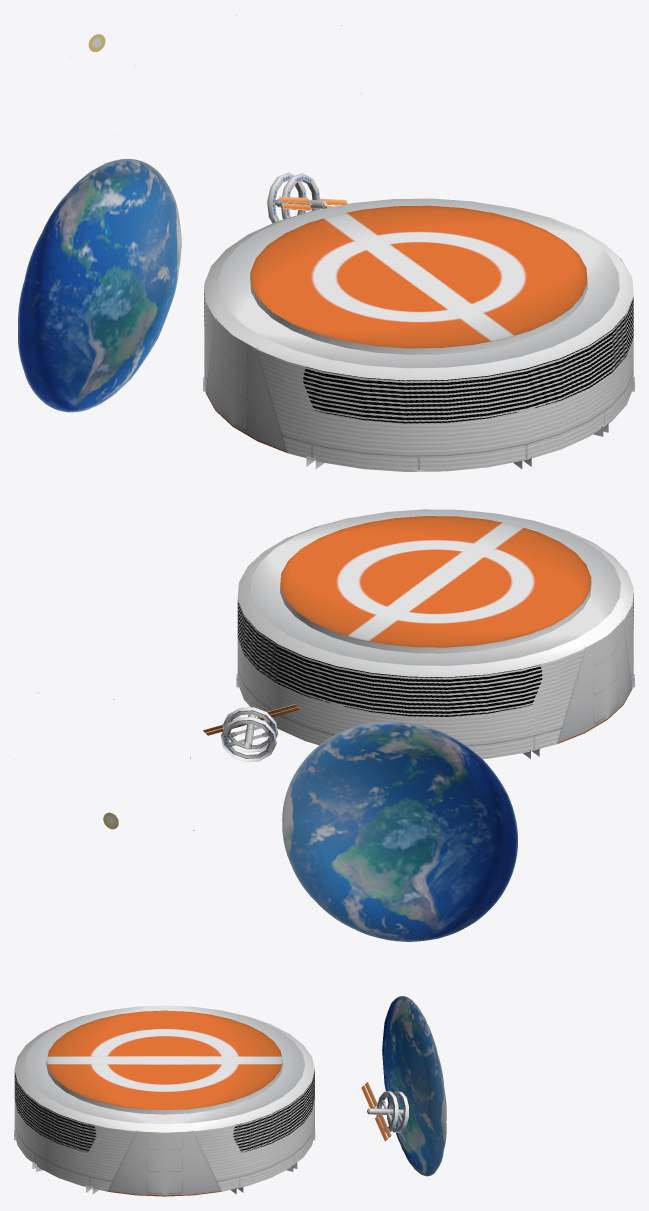
File: space_station_stage.fbx
3 renders of one model, top to bottom at view 1: azimuth 30°, elevation 25°; view 2: azimuth 150°, elevation 25°; view 3: azimuth 270°, elevation 25°, orthographic. The views are drawn at different scales.
Visible parts, largest first — view 1: space_station_roof, space_station_stage, earth, iss, centrifuse_2; view 2: space_station_roof, earth, space_station_stage, centrifuse_2, centifuse_1, iss; view 3: space_station_roof, space_station_stage, earth, iss, centifuse_1, centrifuse_2.
Part boxes in pixels (box(x1,y1,x2,y2)): space_station_roof: box(204, 198, 633, 380); space_station_stage: box(203, 287, 634, 471); earth: box(18, 158, 181, 412); iss: box(276, 196, 347, 210); centrifuse_2: box(267, 172, 306, 223); space_station_roof: box(237, 509, 633, 677); earth: box(282, 721, 517, 941); space_station_stage: box(236, 592, 634, 759); centrifuse_2: box(221, 716, 276, 762); centifuse_1: box(222, 707, 278, 752); iss: box(203, 704, 300, 748); space_station_roof: box(14, 1005, 314, 1132); space_station_stage: box(14, 1070, 315, 1196); earth: box(382, 996, 446, 1176); iss: box(361, 1082, 403, 1141); centifuse_1: box(376, 1091, 398, 1132); centrifuse_2: box(387, 1091, 408, 1132).
Bounding box in the file's own units: 2024 × 1225 × 3391.
Materials: 3 (3 with a texture image).
